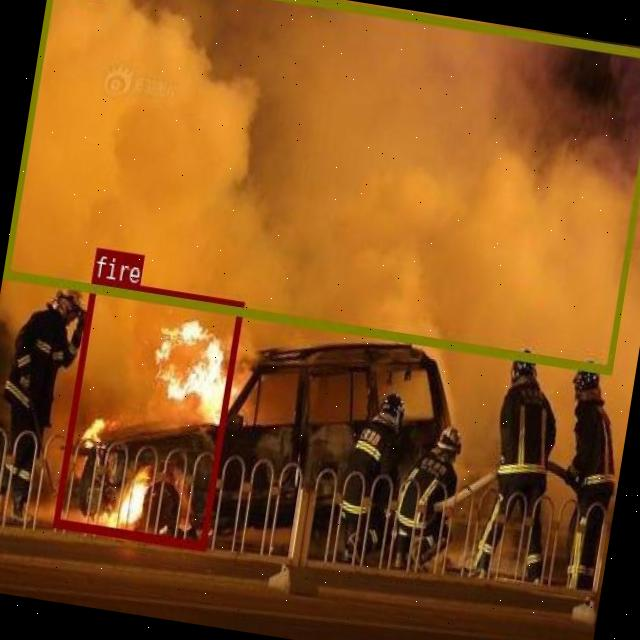fire: (53, 277, 244, 549)
smoke: (3, 0, 640, 372)
